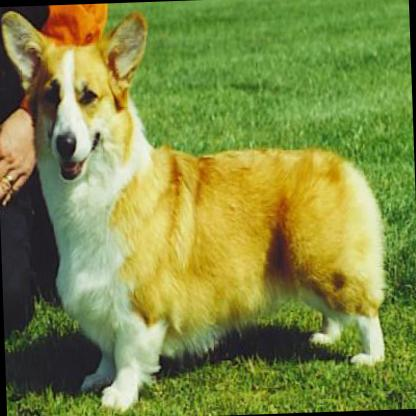Pembroke: (0, 0, 388, 412)
